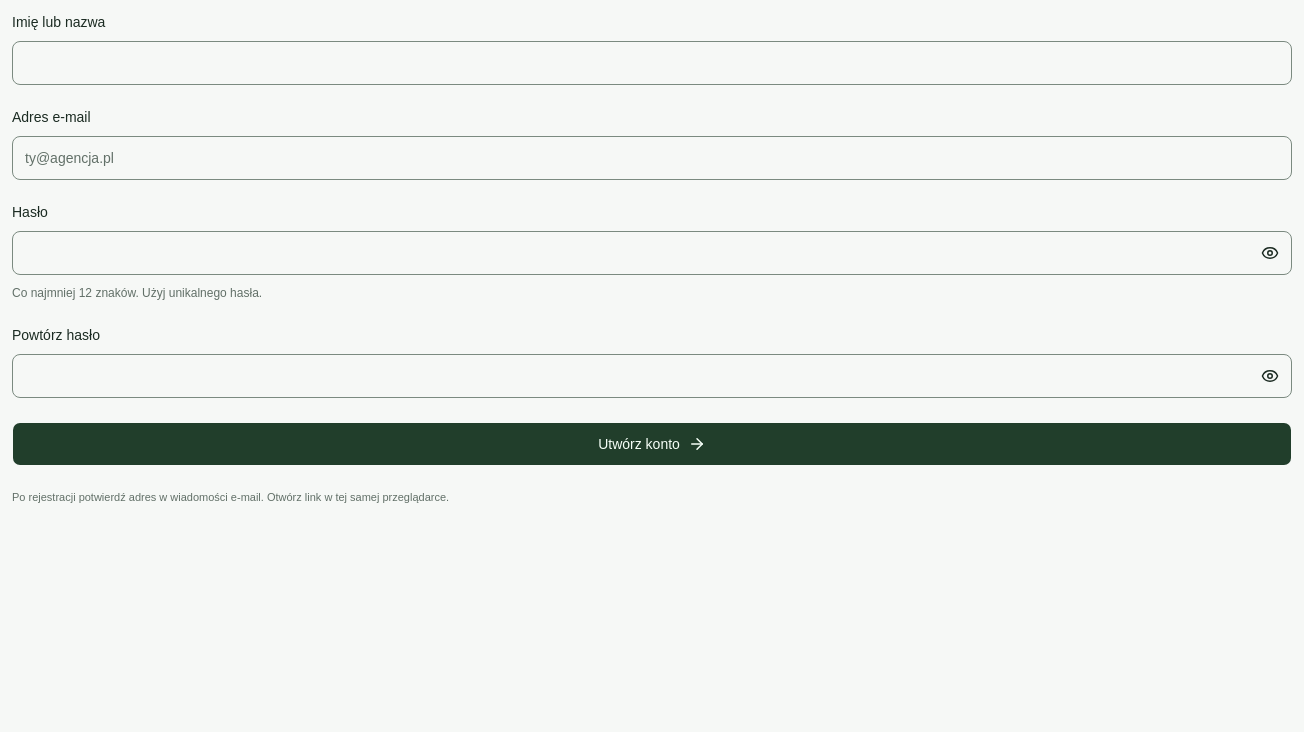
Test case: email registration form › rejects a short password and a non-matching confirmation
Type " Test Person " into the field labelled "Imię lub nazwa". click: (652, 63)
box: [12,41,1292,85]
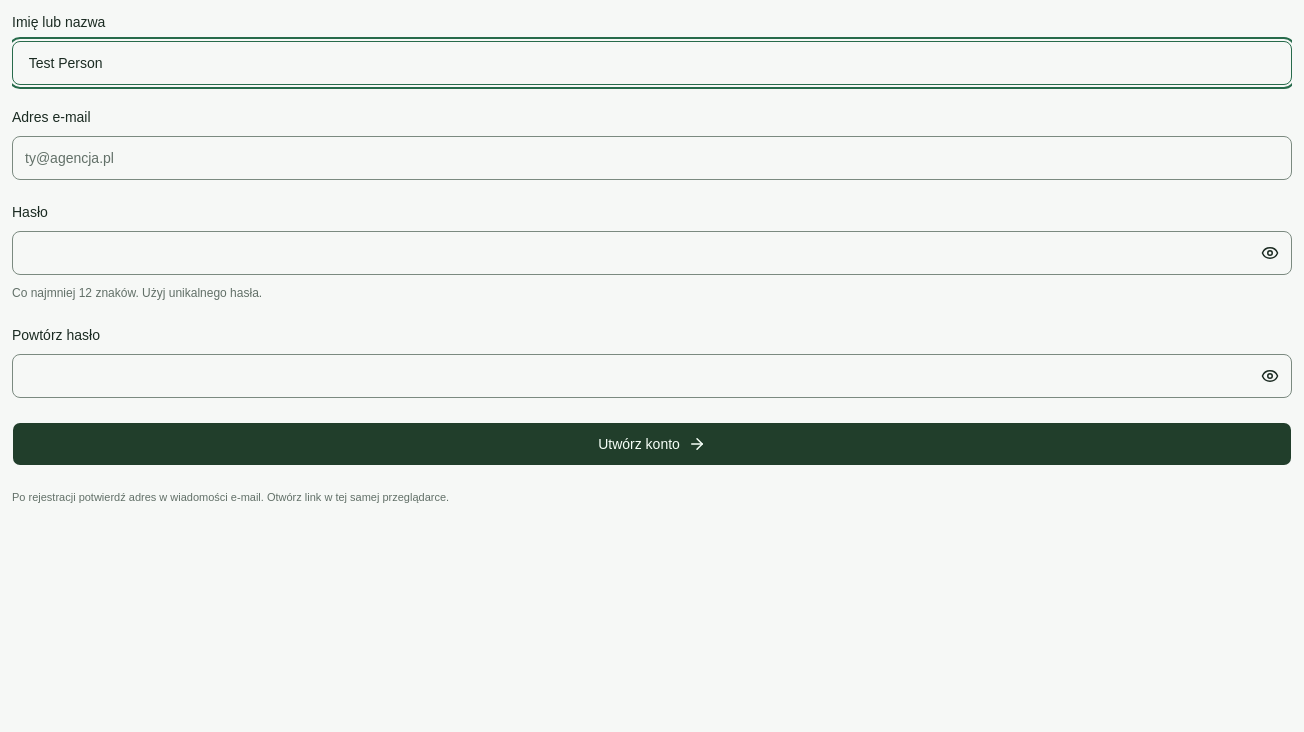
Type " PERSON@Example.test " into the field labelled "Adres e-mail". click: (652, 158)
box: [12,136,1292,180]
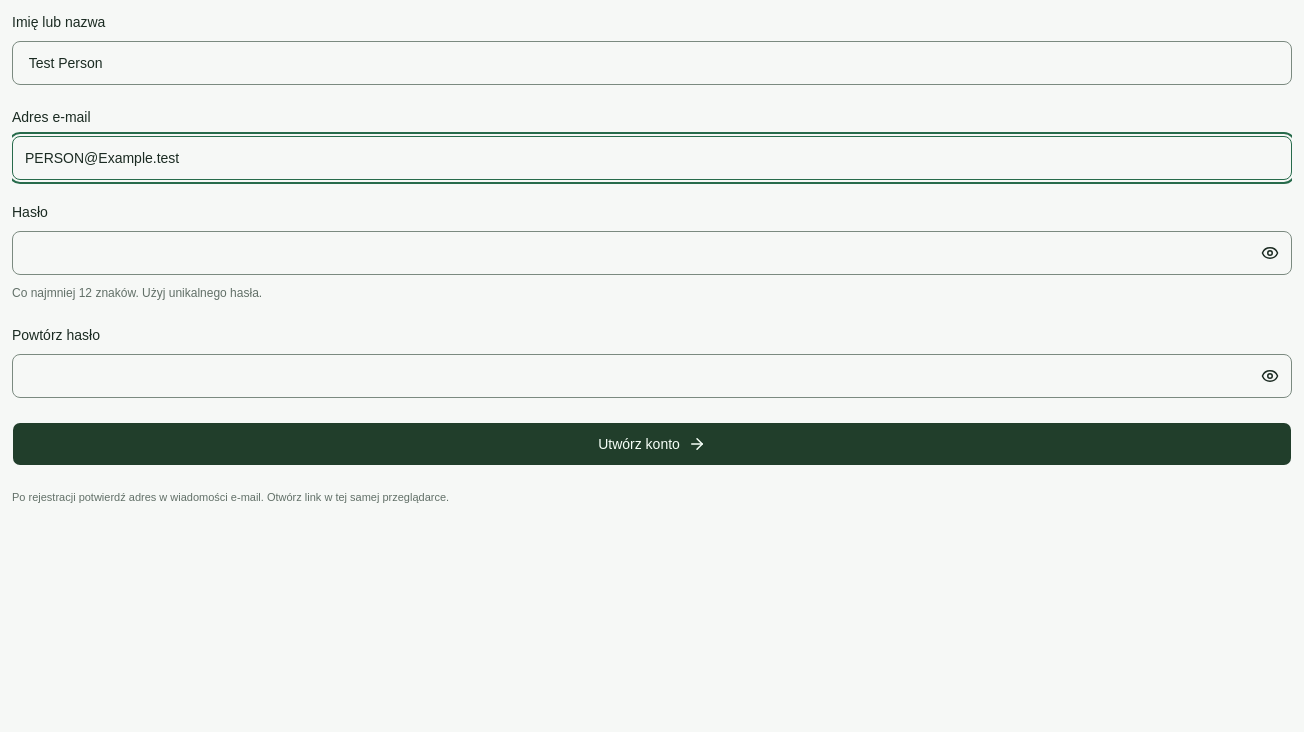
Type "short" into the password field labelled "Hasło". click: (652, 253)
box: [12,231,1292,275]
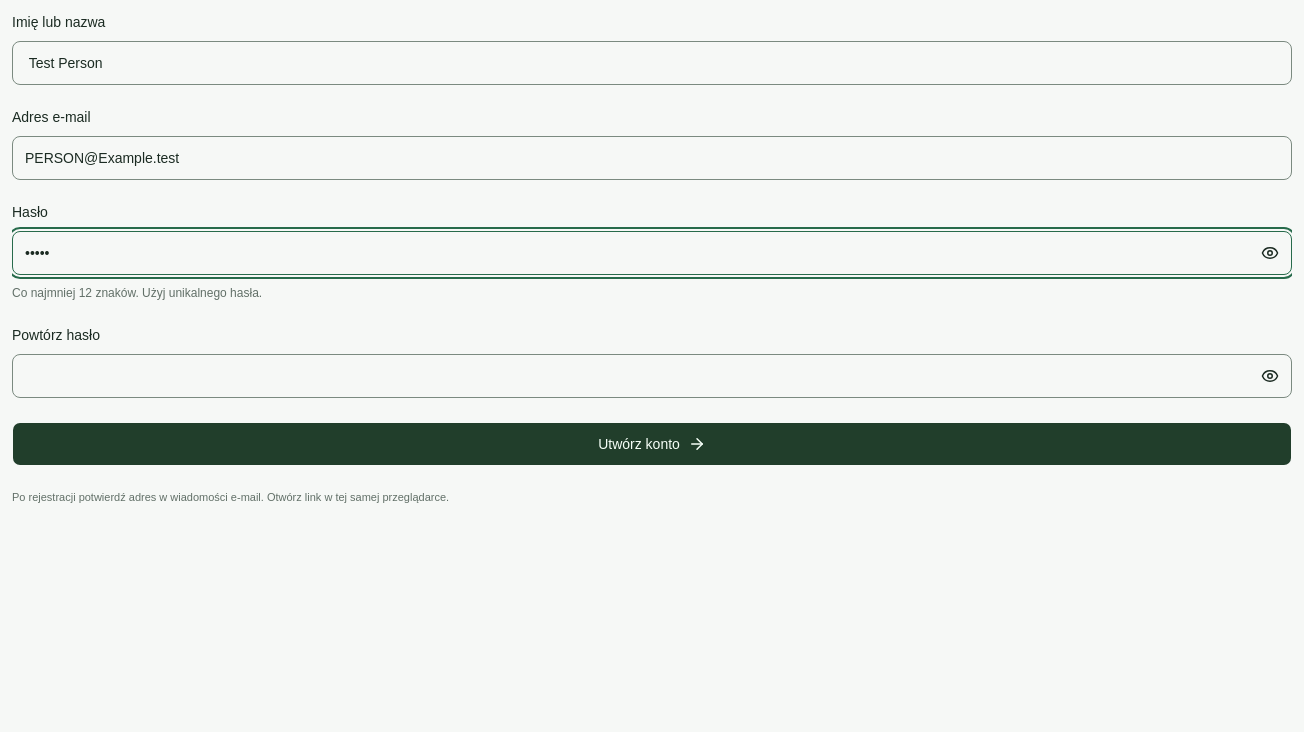
Type "short" into the password field labelled "Powtórz hasło". click: (652, 376)
box: [12,354,1292,398]
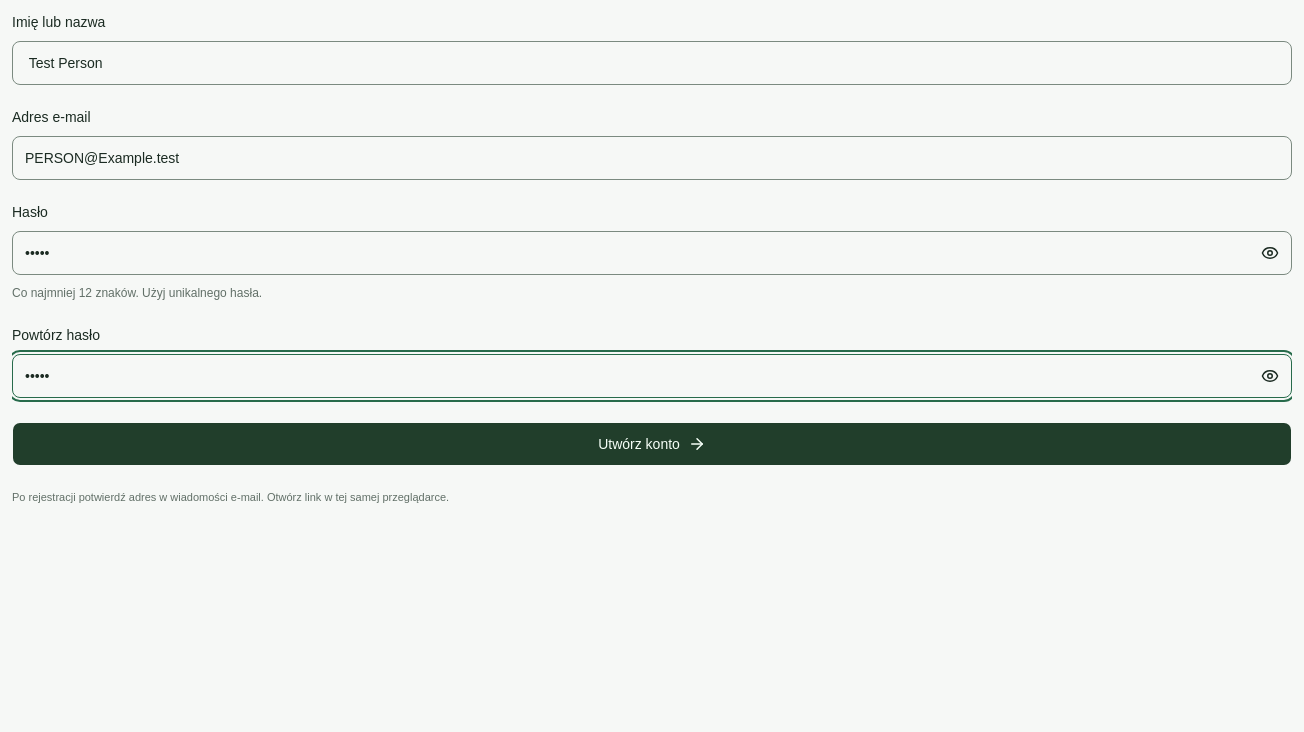
Type "-different" into the password field labelled "Powtórz hasło". click: (652, 376)
box: [12,354,1292,398]
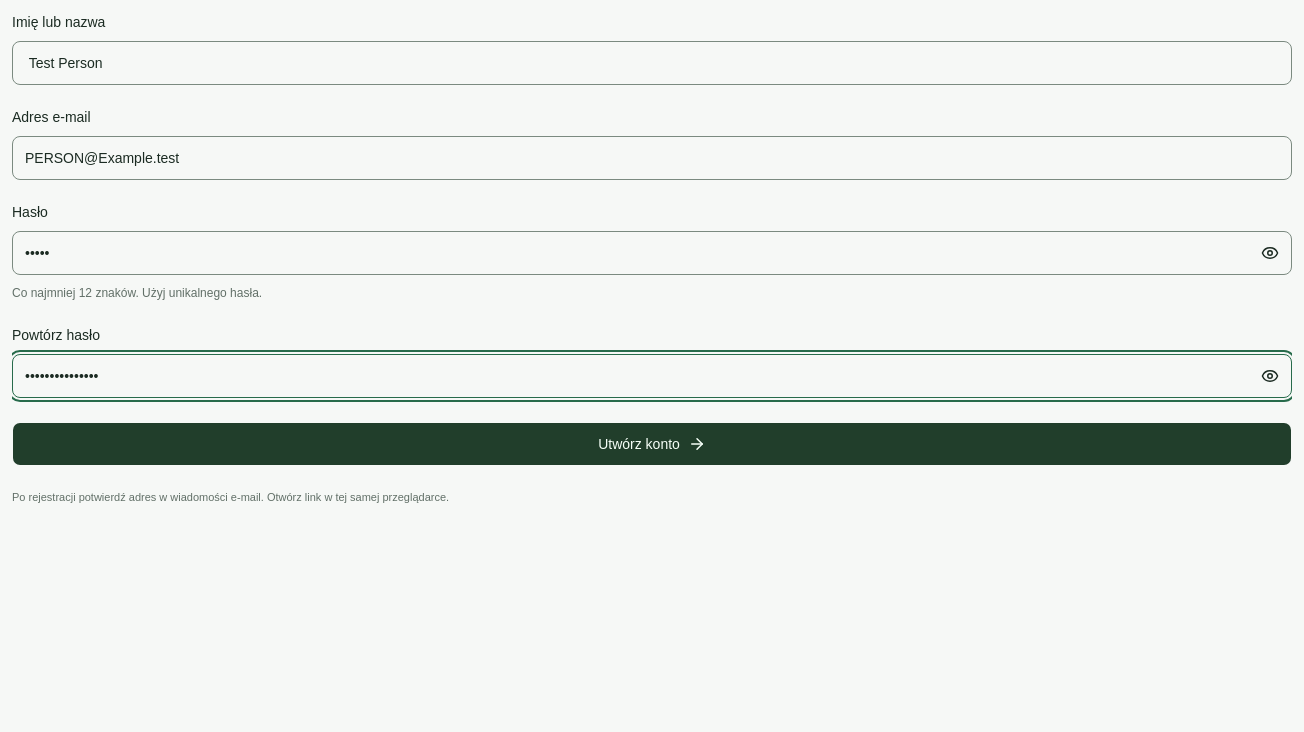
Click the button "Utwórz konto". click: (652, 444)
box: [12,422,1292,466]
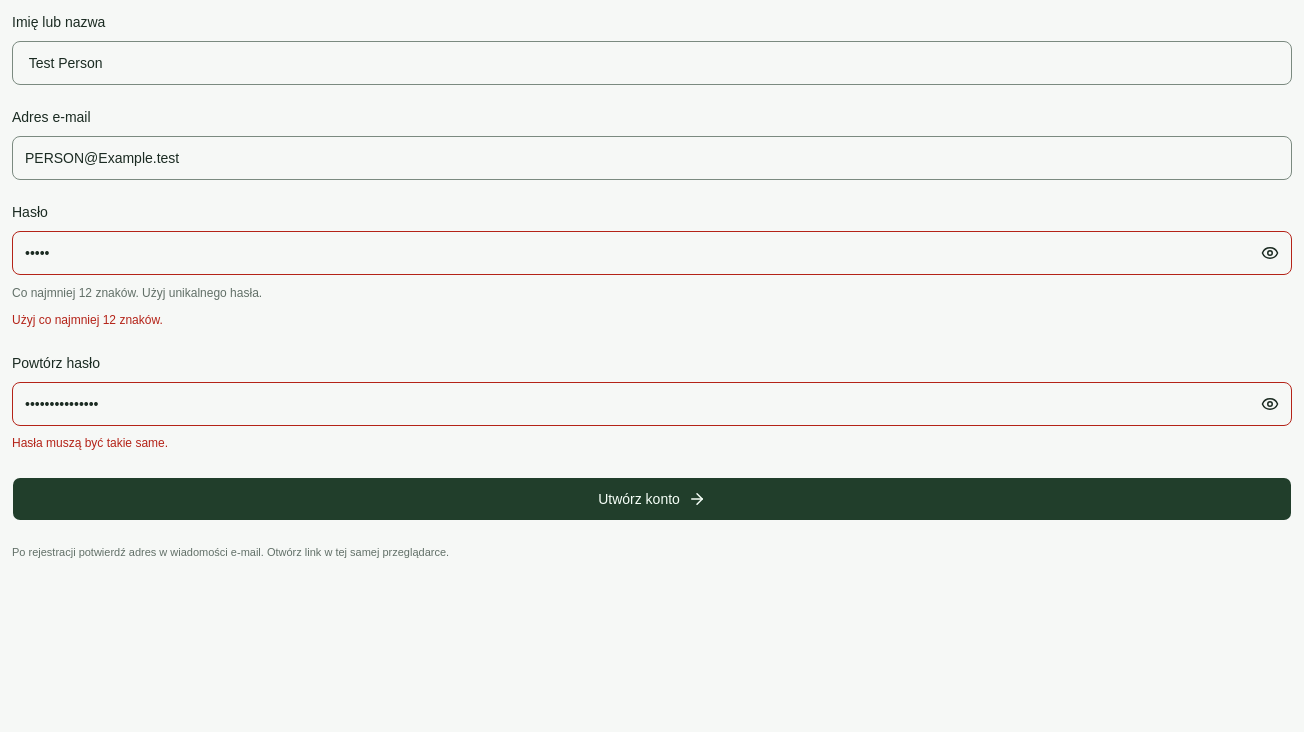
expect the text "Użyj co najmniej 12 znaków." is shown: met, box [12,313,163,327]
expect the text "Hasła muszą być takie same." is shown: met, box [12,436,168,450]
